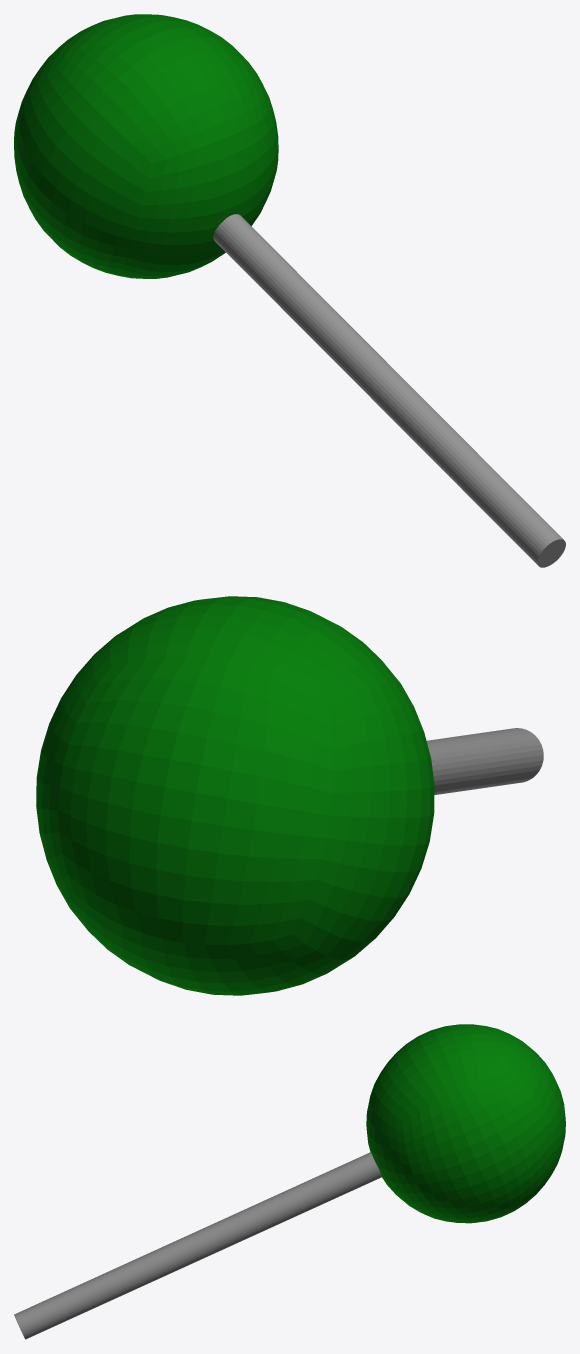
The model's file is stecknadel Marokko.glb.
3 views of the same model, one above another, from view 1: azimuth 30°, elevation 25°; view 2: azimuth 150°, elevation 25°; view 3: azimuth 270°, elevation 25° (orthographic). The views are drawn at different scales.
Parts seen in each view (by area): view 1: Zylinder; view 2: Zylinder; view 3: Zylinder.
Boxes of the visible parts, left/top/right/bottom form: Zylinder: left=14, top=14, right=565, bottom=567; Zylinder: left=36, top=596, right=543, bottom=995; Zylinder: left=14, top=1024, right=565, bottom=1339.
Bounding box in the file's own units: 0.0947 × 0.1331 × 0.2512.
